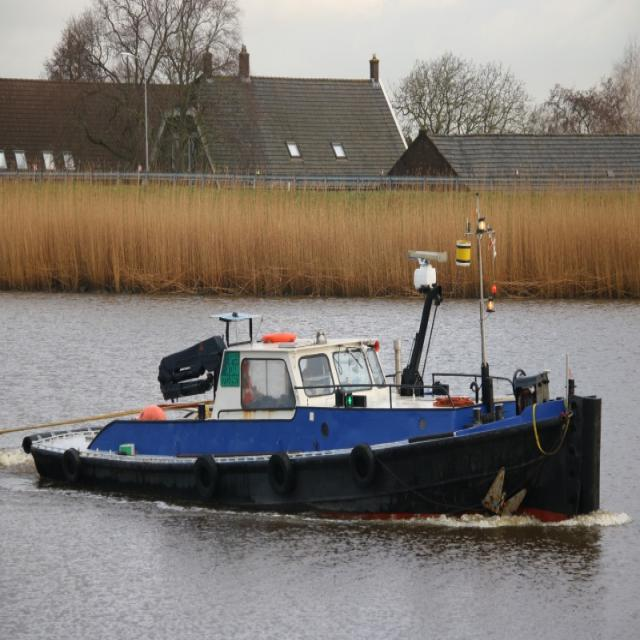tugboat: (18, 245, 608, 541)
